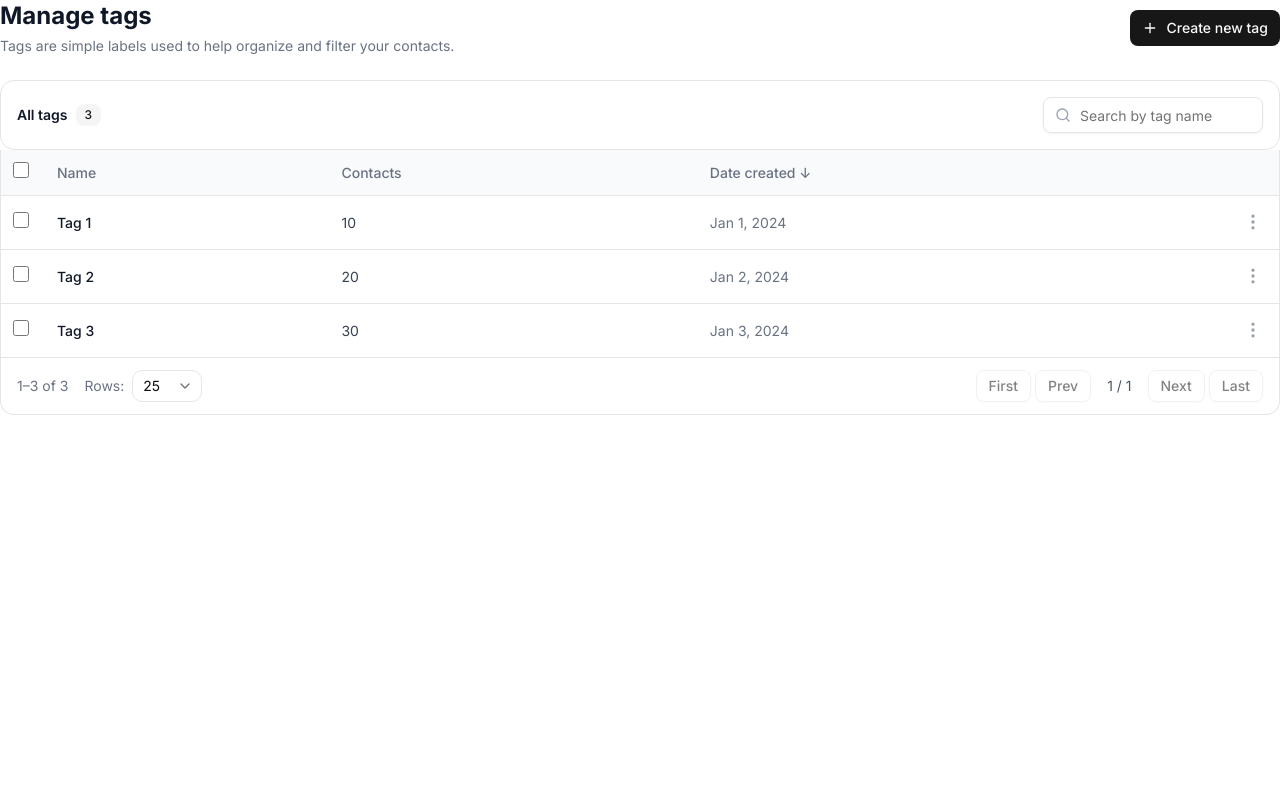
TagsManager › opens create dialog when clicking Create new tag button
The width and height of the screenshot is (1280, 800).
Click the button "Create new tag" at x=1205, y=28, box [1130,10,1279,46]
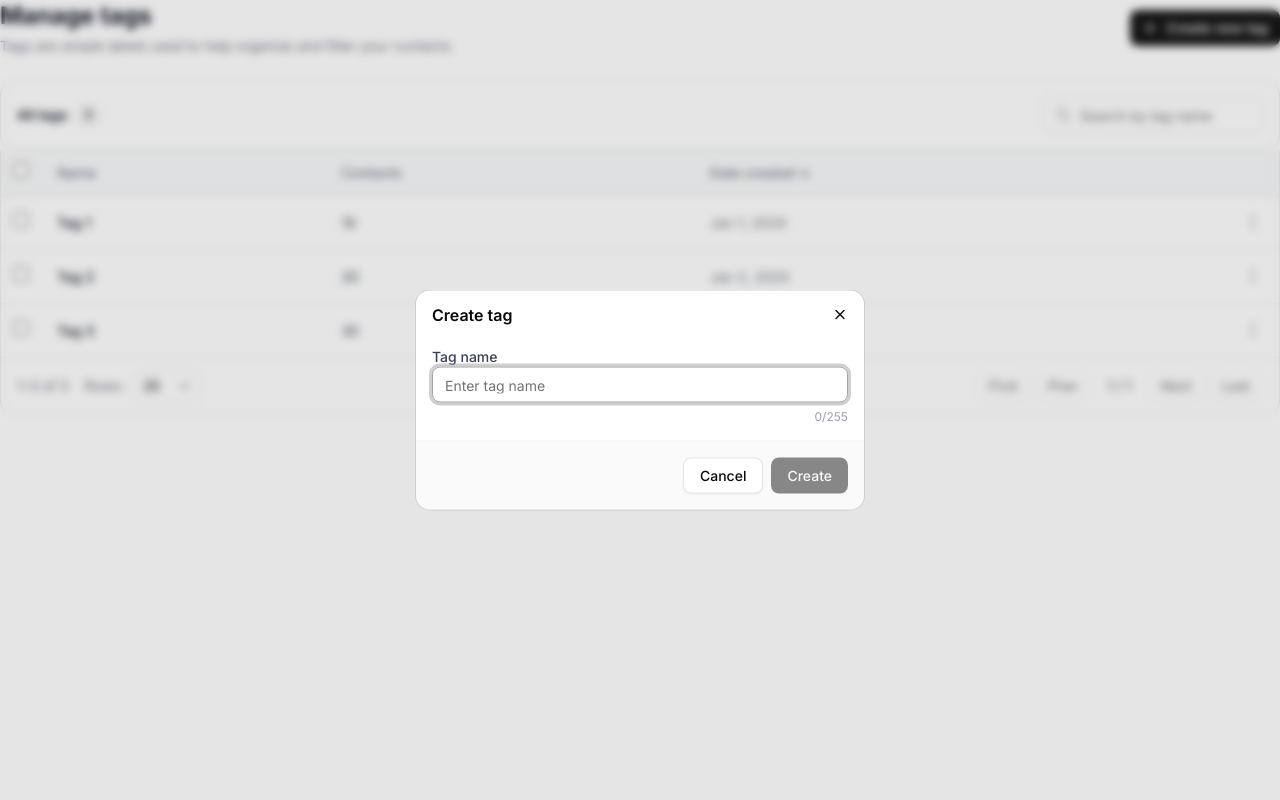
Now the heading "Create tag" is shown, box [432,304,512,324]
Now the field with placeholder "Enter tag name" is shown, box [432,366,848,402]
